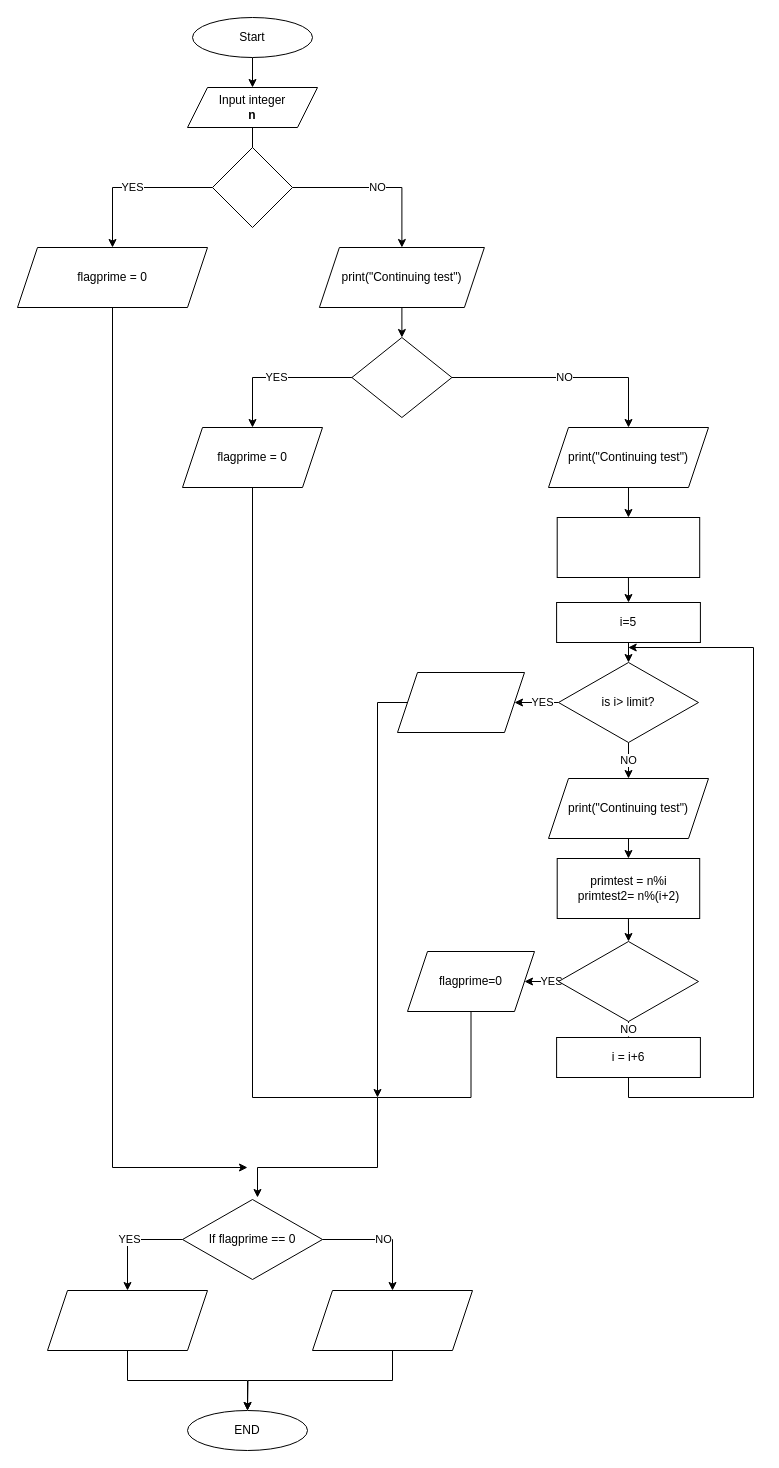
Some shapes in this 779 by 1468 pixel diagram are drawn without their labels. Each missing label, with the centre of its shape:
Calculate limit= int(n**0.5): pixel 628 547
flagprime=1: pixel 460 702
is n%2==0 or n%3==0: pixel 401 377
is n<=1: pixel 252 187
is primtest==0 or primtest2==0: pixel 628 981
print("Number is NOT prime"): pixel 392 1320
print("Number is prime"): pixel 127 1320
